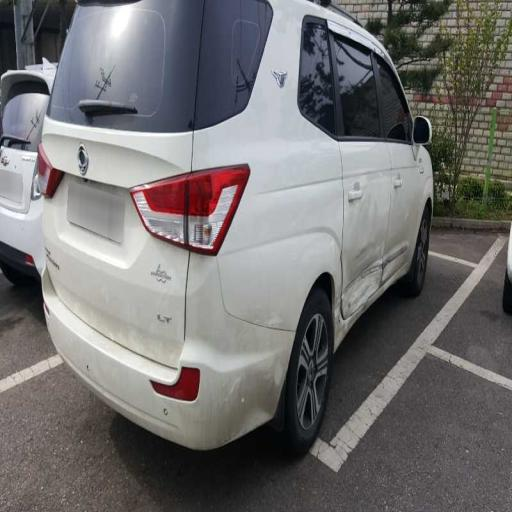dent: (327, 166, 416, 334)
